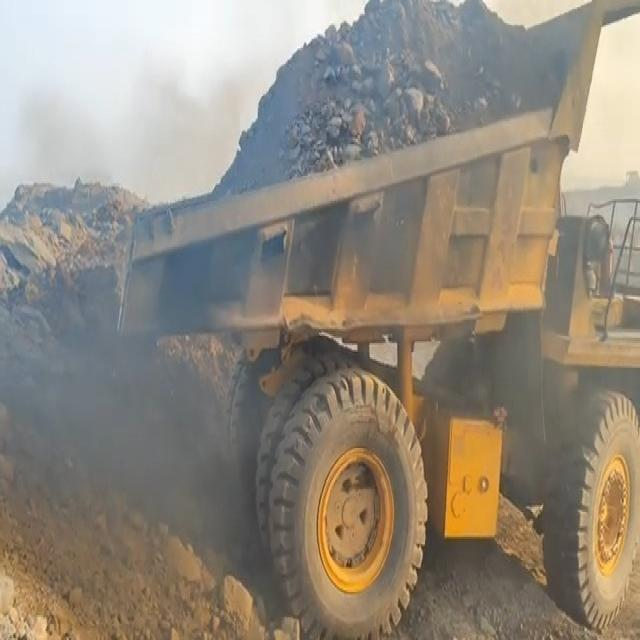dump_truck: (127, 6, 640, 639)
